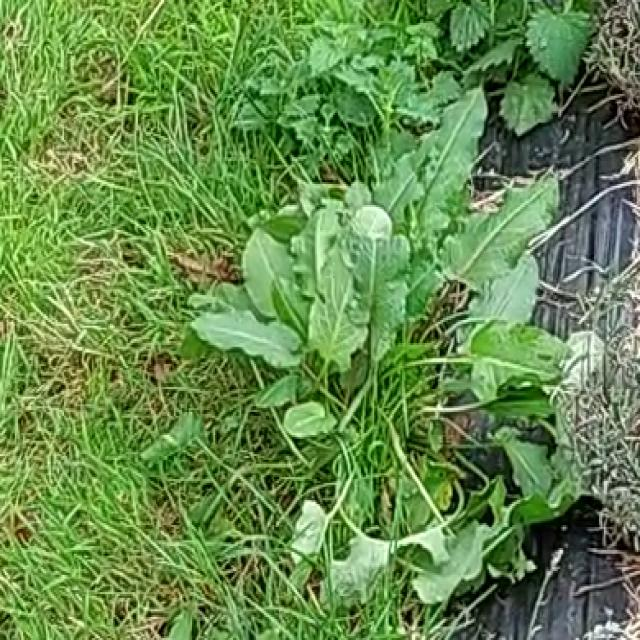organic waste: (210, 98, 583, 573)
